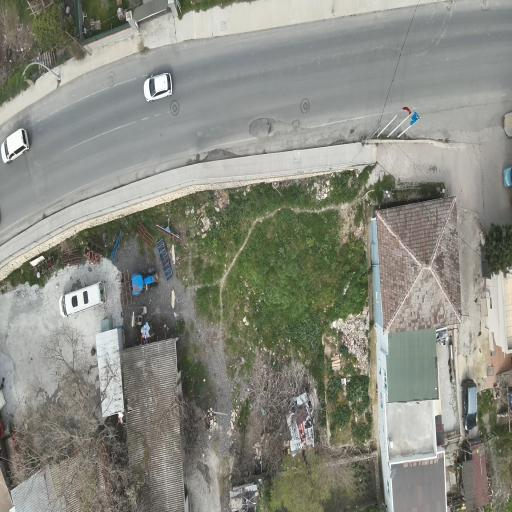car: (59, 281, 106, 317), (0, 129, 29, 163), (144, 73, 172, 101), (462, 380, 477, 430), (504, 113, 511, 137), (503, 168, 511, 187)
tractors: (131, 267, 158, 296)
